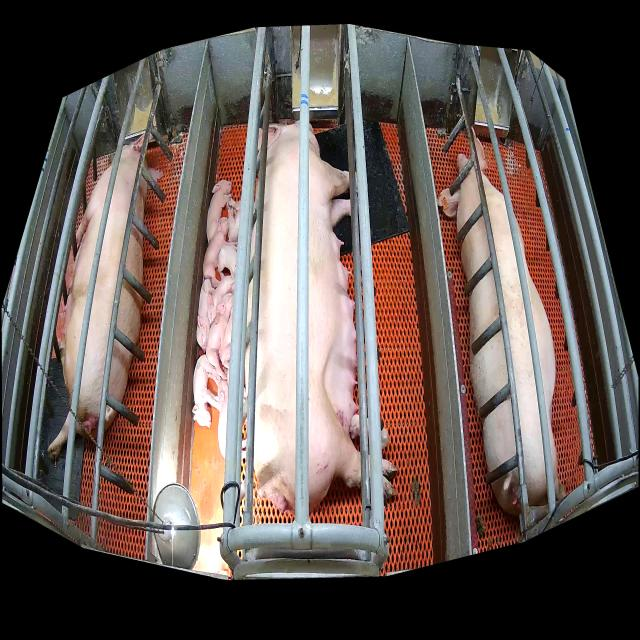pig: (245, 120, 399, 513), (437, 127, 566, 514), (48, 133, 163, 460), (203, 217, 237, 288), (206, 294, 234, 380), (192, 355, 220, 428), (206, 180, 232, 244), (196, 279, 214, 353), (208, 276, 235, 325), (219, 307, 233, 369), (218, 379, 228, 460), (218, 247, 237, 280), (228, 199, 241, 239), (350, 415, 359, 439)
